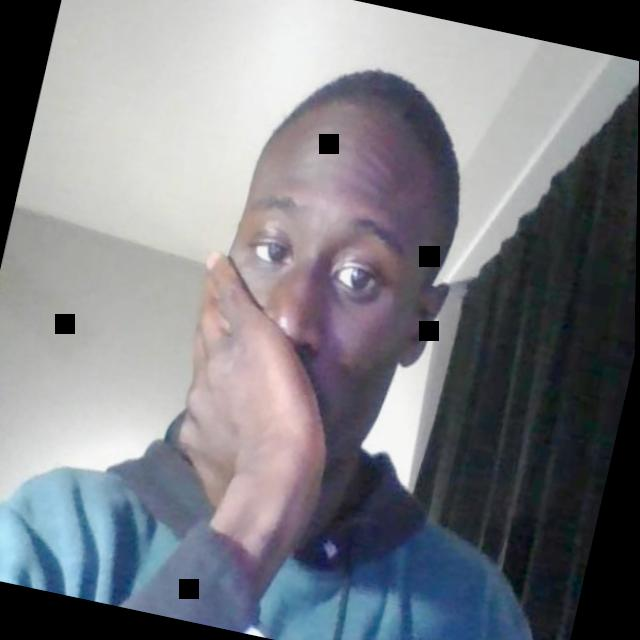NO-Mask: (184, 160, 449, 490)
